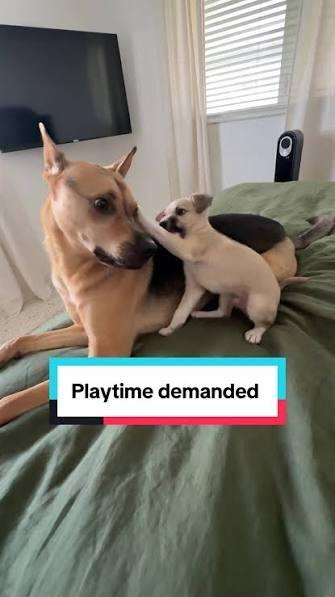adult_dog: (0, 120, 335, 423)
puppy-dog: (139, 192, 281, 345)
